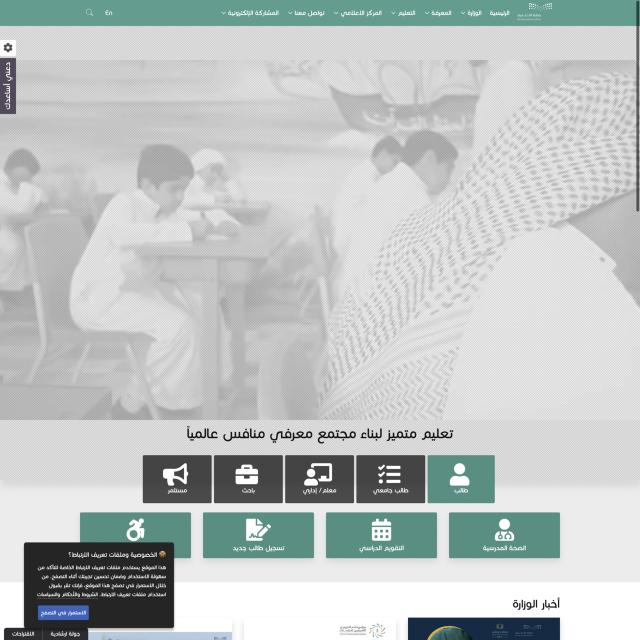logo: (514, 0, 558, 24)
navigation: (142, 454, 496, 506), (216, 6, 512, 21)
